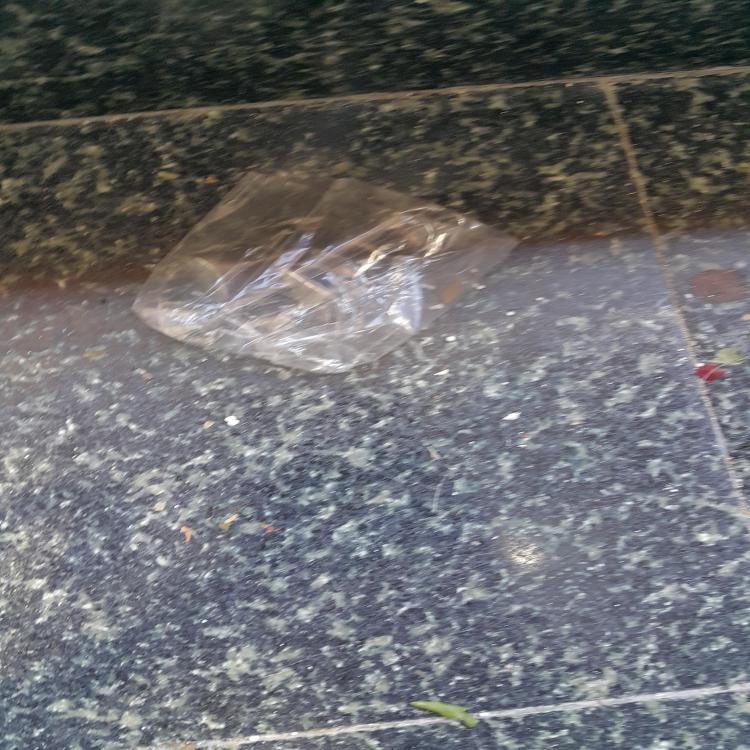Plastic film: (130, 171, 522, 374)
